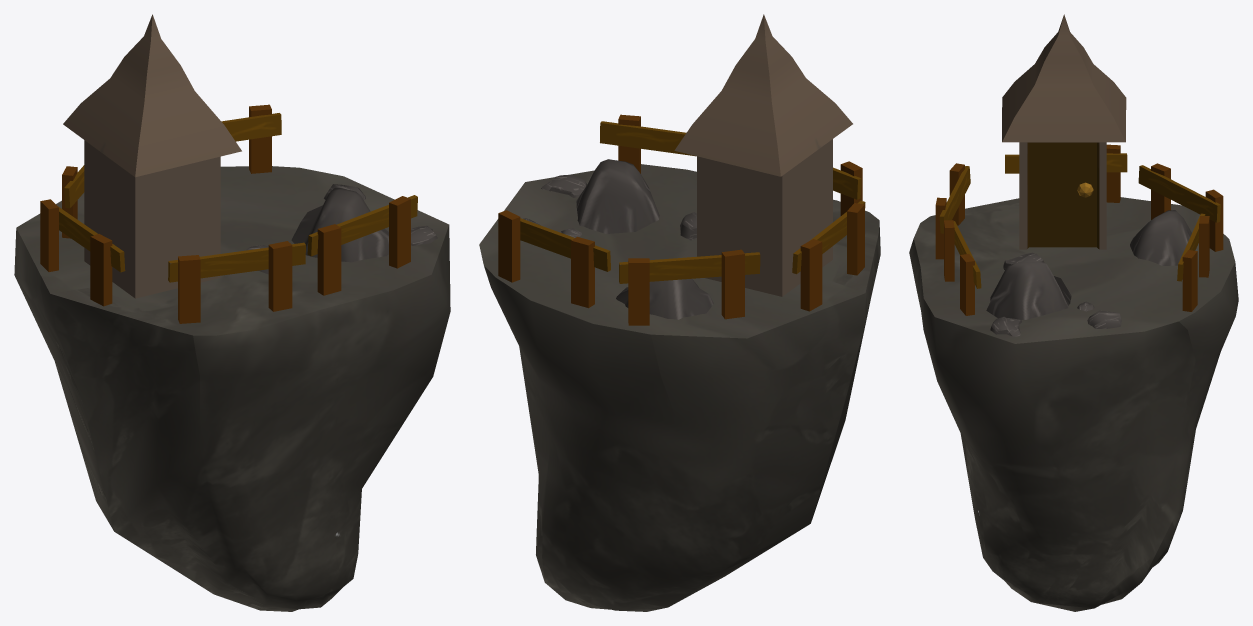
File: illa2-1.fbx
The picture shows the model from 3 angles, left to right: view 1: azimuth 30°, elevation 25°; view 2: azimuth 150°, elevation 25°; view 3: azimuth 270°, elevation 25°; orthographic projection. The views are drawn at different scales.
Parts seen in each view (by area): view 1: pCube56; view 2: pCube56; view 3: pCube56.
Boxes of the visible parts, x1,y1,x2,y2 form: pCube56: [14, 14, 450, 611]; pCube56: [479, 14, 880, 611]; pCube56: [909, 14, 1238, 611].
Size of the model in its own units: 8.67 by 13.71 by 7.72.
Materials: 1 (1 with a texture image).
